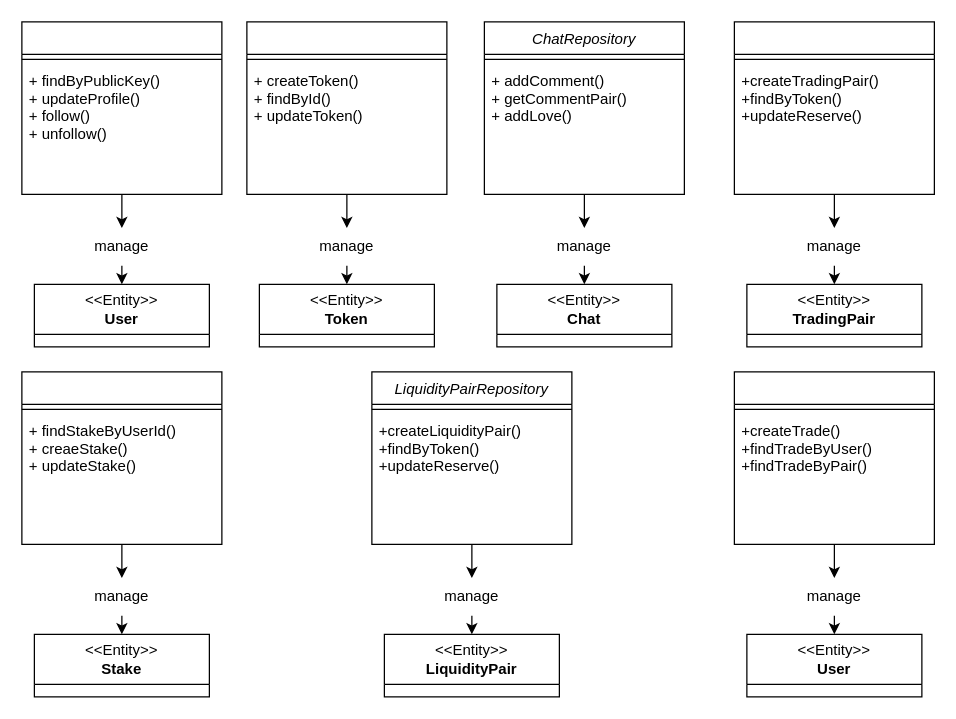
Image size: 956x719. Some labels were removed from this diagram. Each missing label, with the box of its shape:
StakeRepository: (21, 371, 222, 544)
TokenRepository: (246, 21, 447, 194)
TradeRepository: (733, 371, 934, 544)
TradingPairRepository: (733, 21, 934, 194)
UserRepository: (21, 21, 222, 194)
